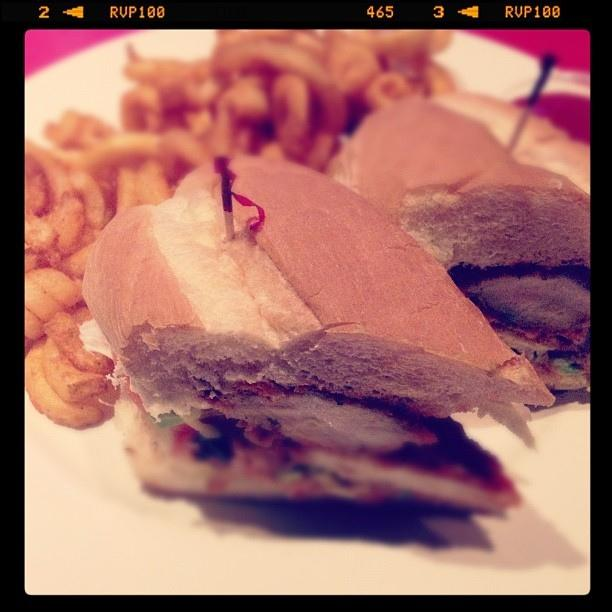lettuce: (150, 406, 202, 430), (278, 463, 328, 483), (558, 363, 580, 374)
